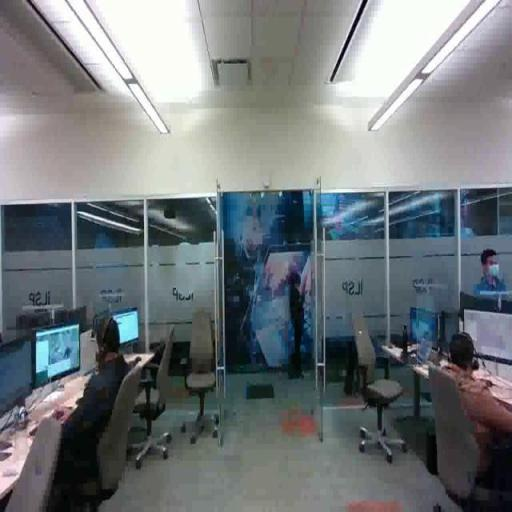person: (49, 318, 148, 512), (435, 327, 512, 494), (472, 242, 512, 326), (287, 266, 313, 384)
